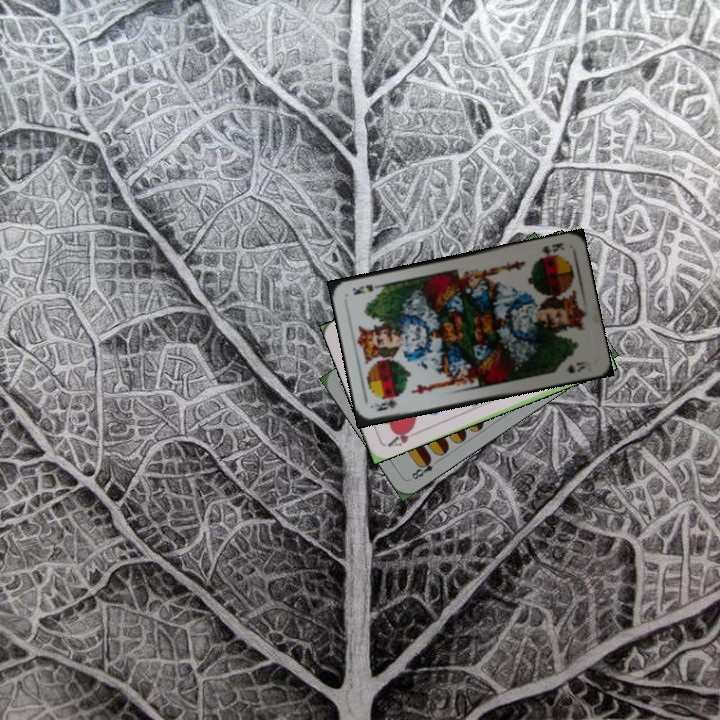E8: (407, 454, 442, 482)
HA: (383, 422, 422, 449)
SK: (535, 239, 567, 262), (370, 395, 400, 414)
